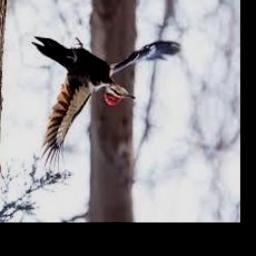Woodpecker: (32, 37, 181, 172)
